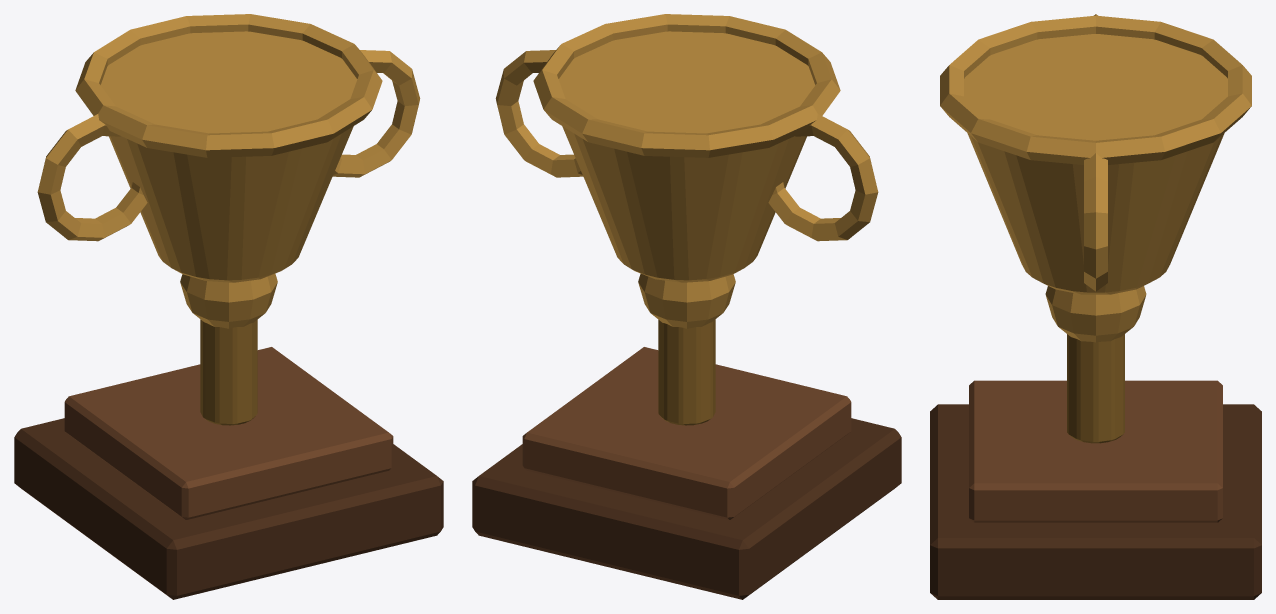
The model's file is trophy.glb.
The picture shows the model from 3 angles, left to right: view 1: azimuth 30°, elevation 25°; view 2: azimuth 150°, elevation 25°; view 3: azimuth 270°, elevation 25°; orthographic projection. The views are drawn at different scales.
Visible parts, largest first — view 1: trophy-cup, trophy-plinth; view 2: trophy-cup, trophy-plinth; view 3: trophy-cup, trophy-plinth.
Part boxes in pixels (left/top/right/bottom): trophy-cup: left=37, top=14, right=420, bottom=425; trophy-plinth: left=14, top=347, right=443, bottom=599; trophy-cup: left=495, top=14, right=878, bottom=425; trophy-plinth: left=472, top=347, right=901, bottom=599; trophy-cup: left=940, top=14, right=1251, bottom=443; trophy-plinth: left=930, top=380, right=1261, bottom=599.
Size of the model in its own units: 0.4698 by 0.5133 by 0.3401.
2 materials, 1 textured.
